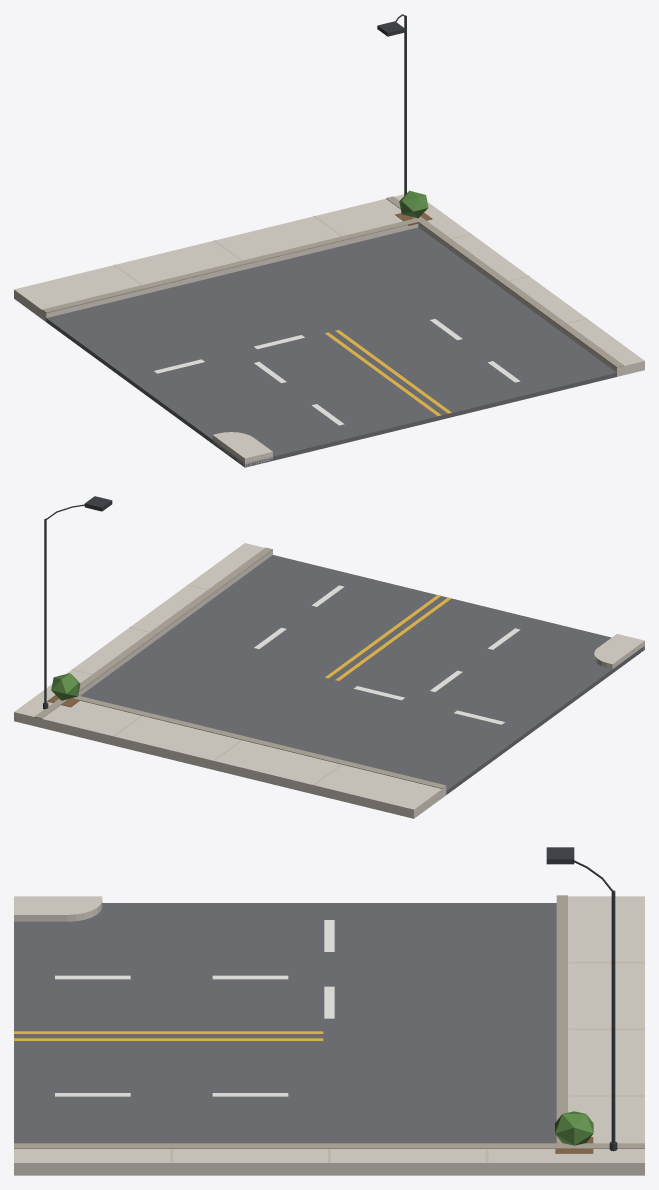
The model's file is Yol_kose_cs_Hafif.fbx.
The picture shows the model from 3 angles, top to bottom: view 1: azimuth 30°, elevation 25°; view 2: azimuth 150°, elevation 25°; view 3: azimuth 270°, elevation 25°; orthographic projection. The views are drawn at different scales.
Parts seen in each view (by area): view 1: Yol_kose_cs_Hafif; view 2: Yol_kose_cs_Hafif; view 3: Yol_kose_cs_Hafif.
Boxes of the visible parts, bbox=[...] form: Yol_kose_cs_Hafif: bbox=[14, 14, 644, 467]; Yol_kose_cs_Hafif: bbox=[14, 496, 644, 818]; Yol_kose_cs_Hafif: bbox=[14, 847, 644, 1175].
Size of the model in its own units: 10 by 5.01 by 10.
